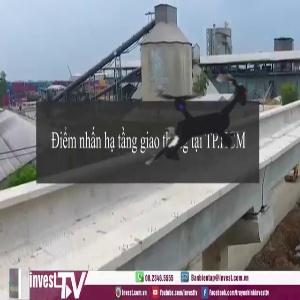drone: (106, 26, 292, 212)
